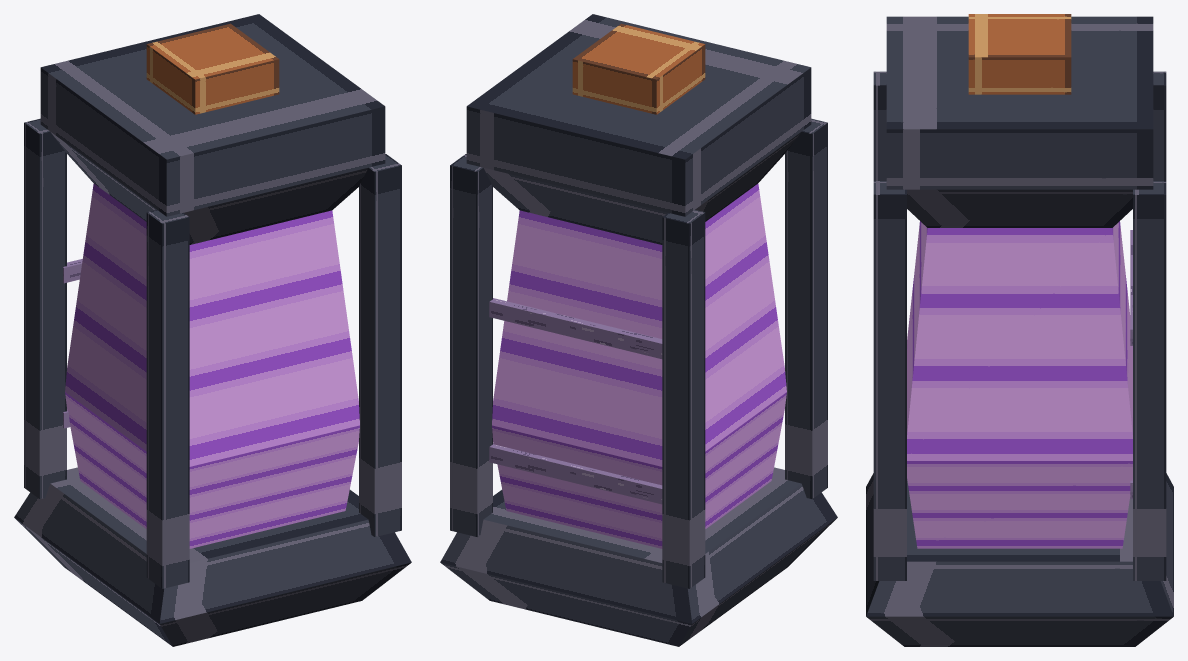
Rendered from glow_cell.obj.
The picture shows the model from 3 angles, left to right: view 1: azimuth 30°, elevation 25°; view 2: azimuth 150°, elevation 25°; view 3: azimuth 270°, elevation 25°; orthographic projection. The views are drawn at different scales.
Visible parts, largest first — view 1: model; view 2: model; view 3: model.
Boxes of the visible parts, x1=… form: model: x1=14, y1=14, x2=411, y2=646; model: x1=440, y1=14, x2=837, y2=646; model: x1=866, y1=14, x2=1173, y2=646.
Size of the model in its own units: 0.375 by 0.7563 by 0.375.
